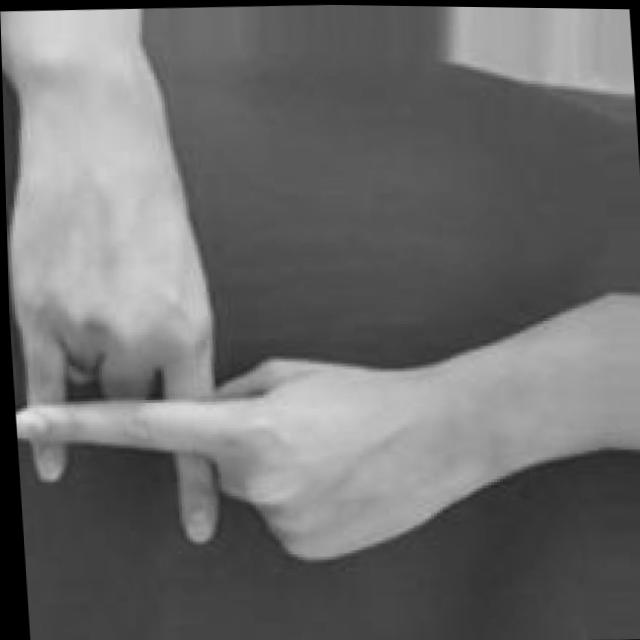H: (5, 153, 461, 572)
